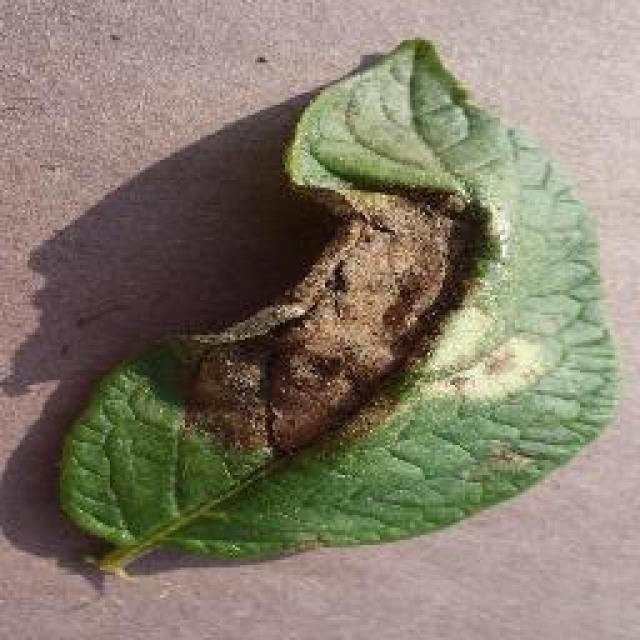late_blight: (52, 32, 622, 578)
